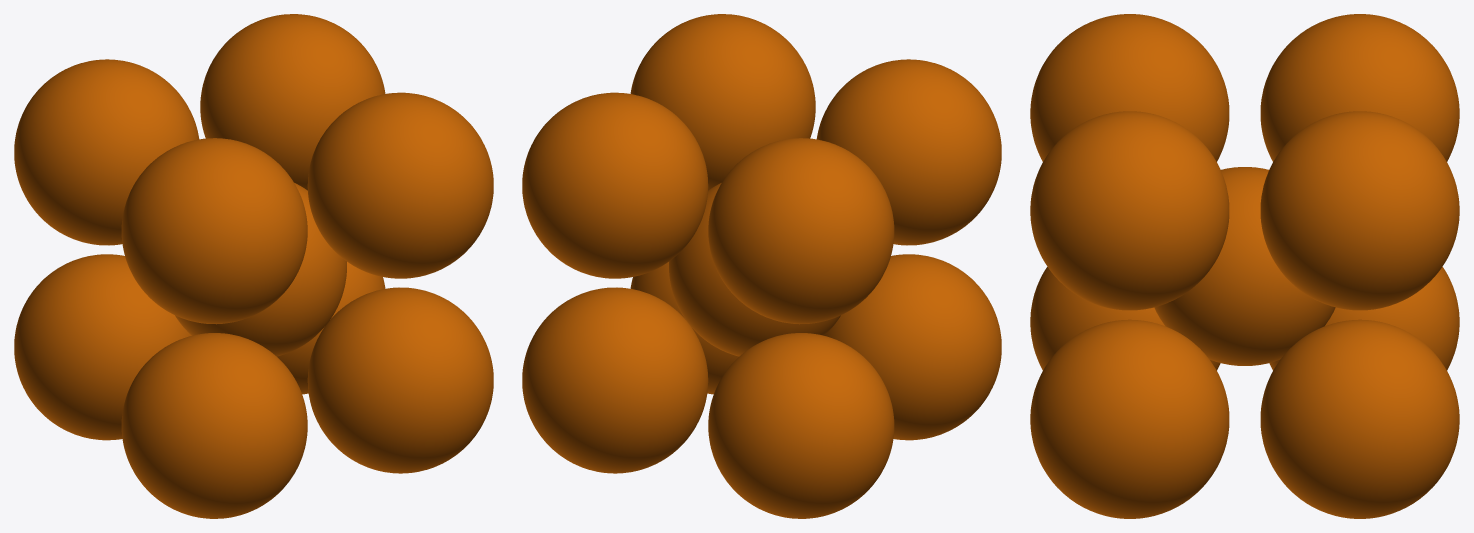
The model's file is BCC_Atoms.glb.
3 renders of one model, left to right at view 1: azimuth 30°, elevation 25°; view 2: azimuth 150°, elevation 25°; view 3: azimuth 270°, elevation 25°, orthographic. The views are drawn at different scales.
Parts seen in each view (by area): view 1: BCC_Atoms; view 2: BCC_Atoms; view 3: BCC_Atoms.
Part boxes in pixels (x1,y1,x2,y2): BCC_Atoms: (14, 14, 493, 518); BCC_Atoms: (522, 14, 1001, 518); BCC_Atoms: (1030, 14, 1459, 518).
Bounding box in the file's own units: 0.7464 × 0.7458 × 0.7461.
